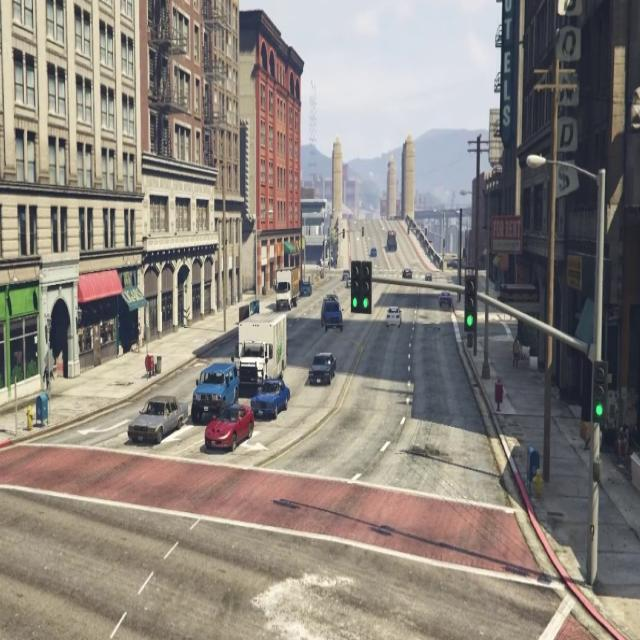Green-Signal: (345, 244, 376, 328), (588, 354, 614, 444), (460, 268, 480, 352)
